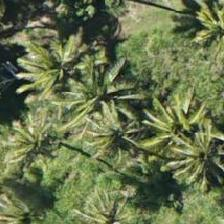coconut_tree: (131, 80, 221, 170), (73, 91, 163, 181), (56, 46, 146, 136), (17, 22, 107, 112), (0, 92, 83, 182), (158, 109, 223, 199), (67, 177, 157, 223), (171, 0, 223, 73)
